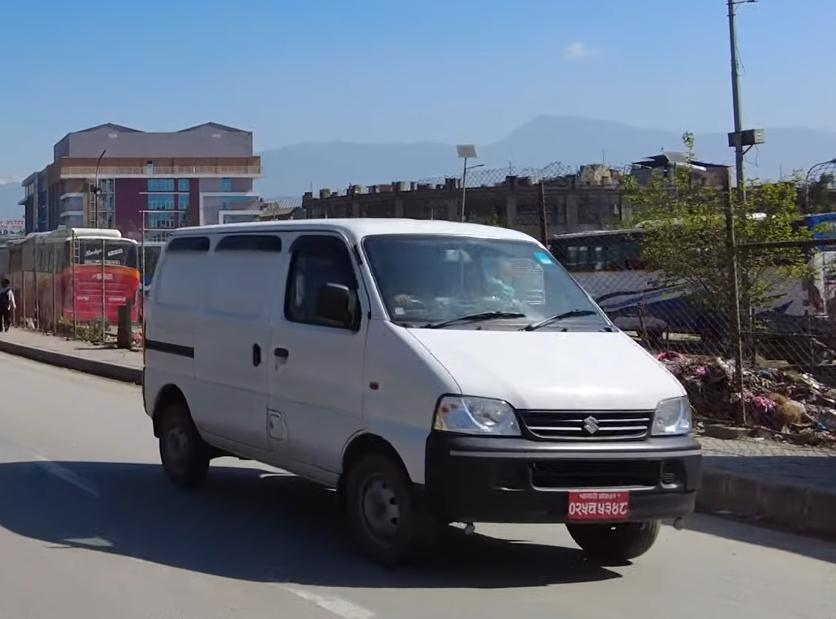bus: (16, 220, 144, 331)
van: (135, 211, 708, 571)
